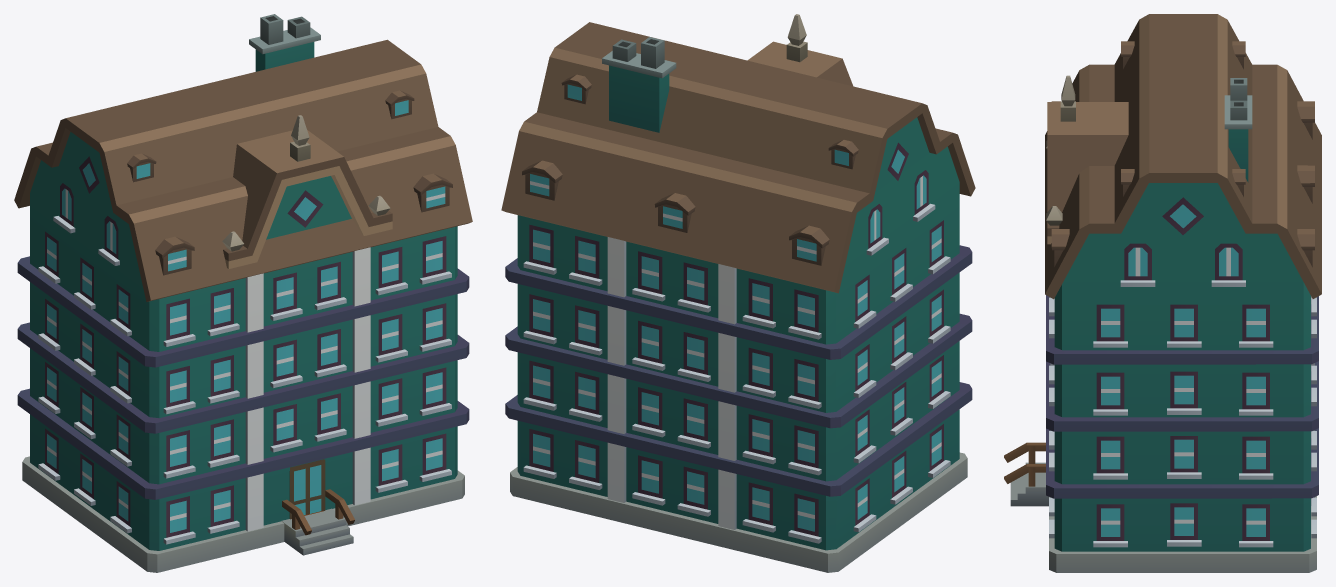
Rendered from Building_cartoon_42.fbx.
3 renders of one model, left to right at view 1: azimuth 30°, elevation 25°; view 2: azimuth 150°, elevation 25°; view 3: azimuth 270°, elevation 25°, orthographic. The views are drawn at different scales.
Visible parts, largest first — view 1: Building_cartoon_42; view 2: Building_cartoon_42; view 3: Building_cartoon_42.
Boxes of the visible parts, x1=… form: Building_cartoon_42: x1=14, y1=14, x2=472, y2=572; Building_cartoon_42: x1=501, y1=14, x2=975, y2=572; Building_cartoon_42: x1=1004, y1=14, x2=1321, y2=572.
Size of the model in its own units: 1697 by 2173 by 1421.
